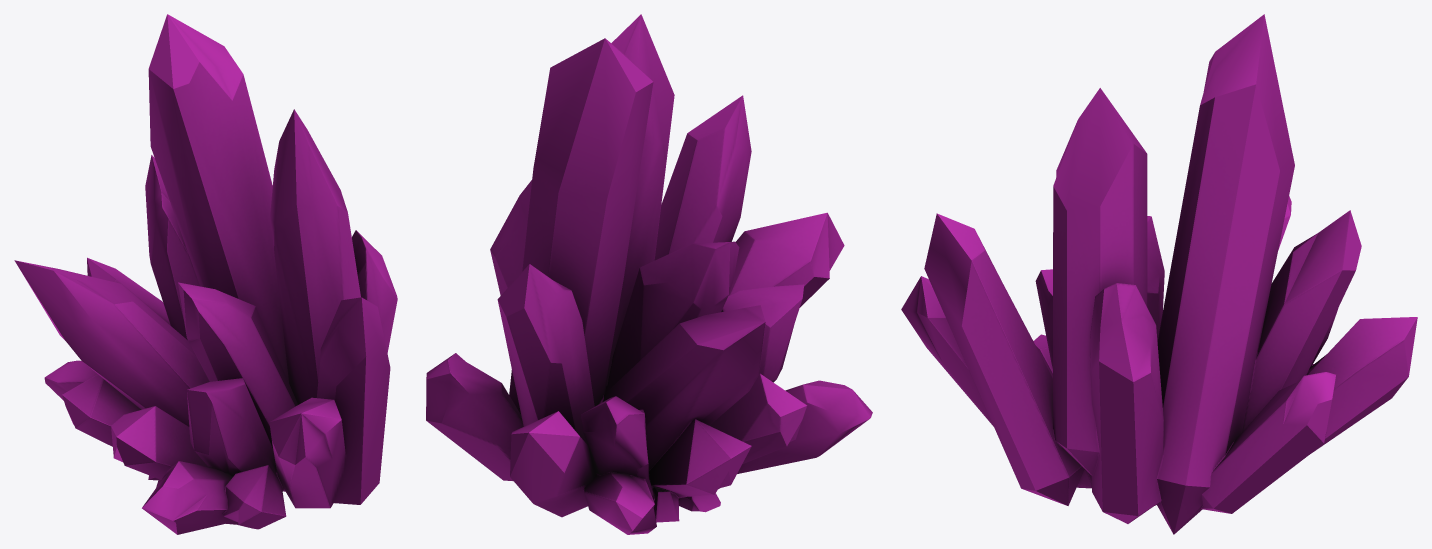
The model's file is Alchemy Crystal 1.fbx.
3 renders of one model, left to right at view 1: azimuth 30°, elevation 25°; view 2: azimuth 150°, elevation 25°; view 3: azimuth 270°, elevation 25°, orthographic. The views are drawn at different scales.
Visible parts, largest first — view 1: Alchemy_Crystal_1; view 2: Alchemy_Crystal_1; view 3: Alchemy_Crystal_1.
Boxes of the visible parts, x1,y1,x2,y2 form: Alchemy_Crystal_1: (14,14,397,534); Alchemy_Crystal_1: (426,14,872,534); Alchemy_Crystal_1: (901,14,1417,534).
Bounding box in the file's own units: 11.67 × 16.22 × 16.1.
1 material, 1 textured.
